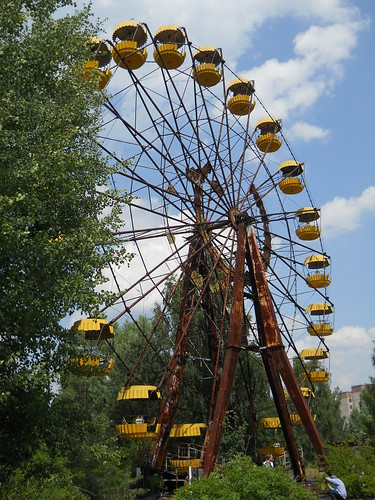ferris wheel: (59, 30, 347, 491)
sky: (214, 1, 370, 338)
tree: (1, 10, 116, 371)
